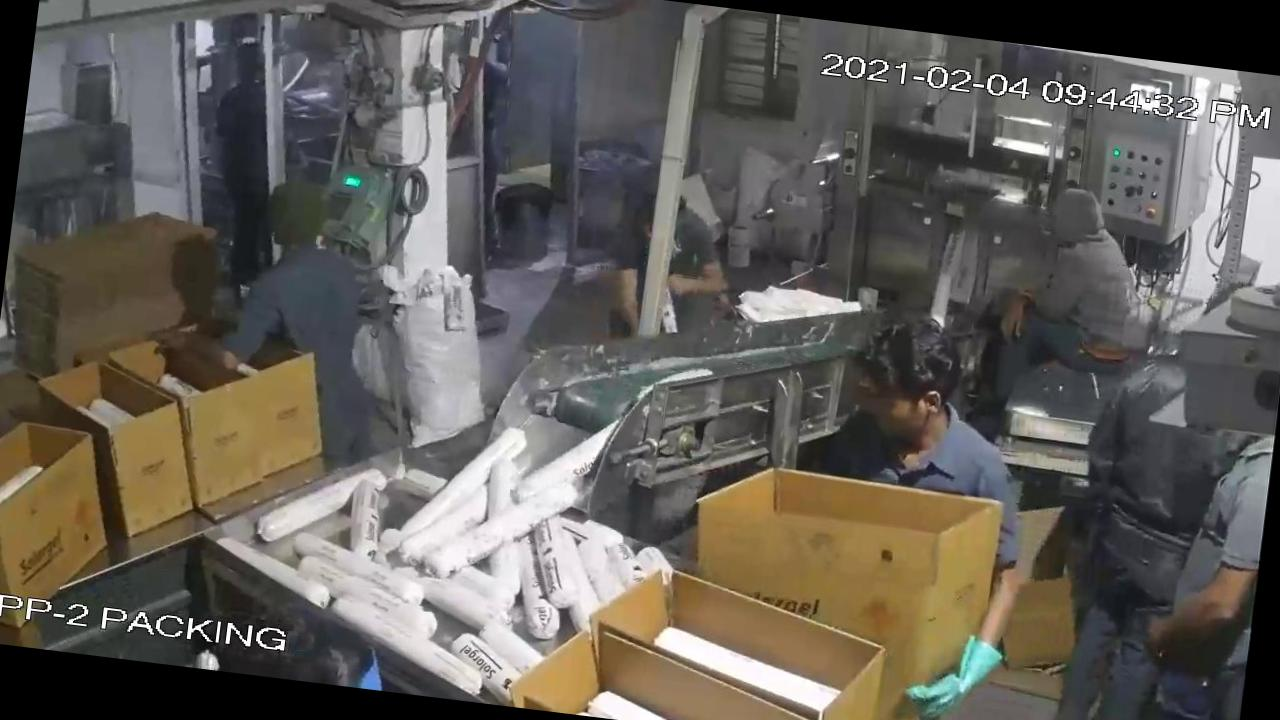Gloves: (867, 524, 1042, 720)
No-gloves: (1142, 522, 1264, 684), (116, 294, 250, 386), (992, 286, 1071, 358), (659, 250, 735, 316), (604, 253, 654, 351)
